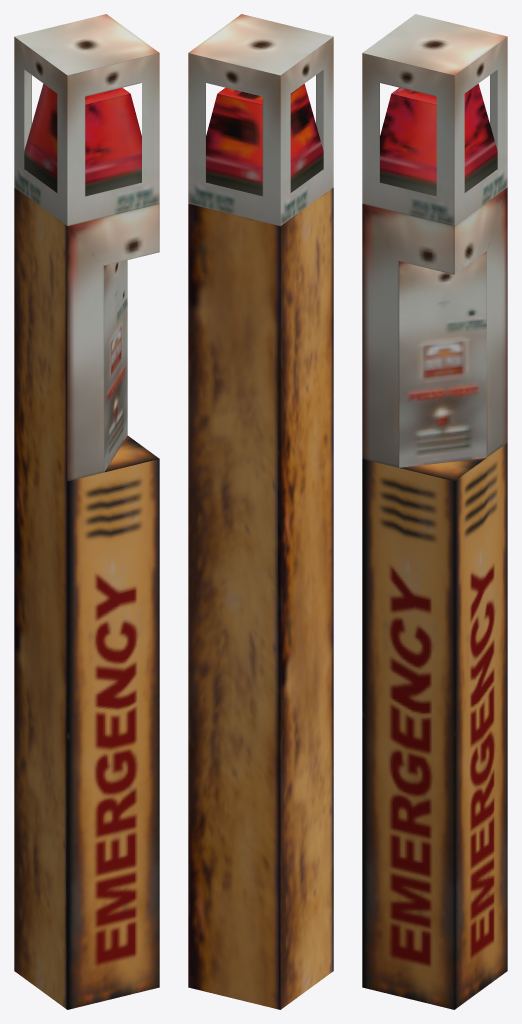
Rendered from Model_SOSColum.fbx.
3 views of the same model, side by side, from view 1: azimuth 30°, elevation 25°; view 2: azimuth 150°, elevation 25°; view 3: azimuth 330°, elevation 25° (orthographic).
Visible parts, largest first — view 1: SOScolumn_new; view 2: SOScolumn_new; view 3: SOScolumn_new.
Part boxes in pixels (x1=…): SOScolumn_new: x1=14, y1=14, x2=159, y2=1009; SOScolumn_new: x1=188, y1=14, x2=333, y2=1009; SOScolumn_new: x1=362, y1=14, x2=507, y2=1009.
Size of the model in its own units: 19.23 by 186 by 19.23.
